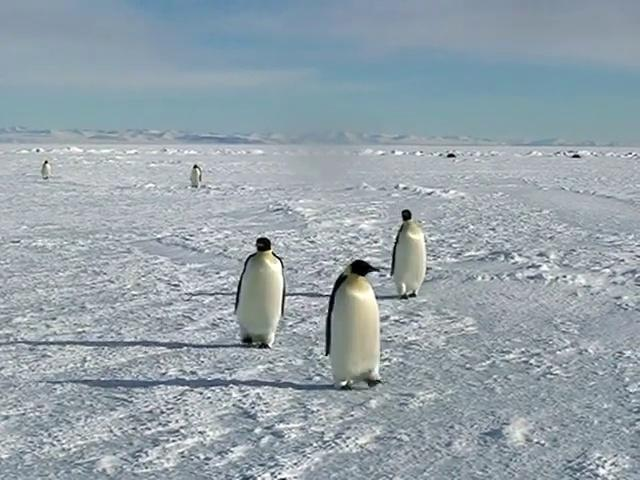animal: (391, 209, 425, 297)
